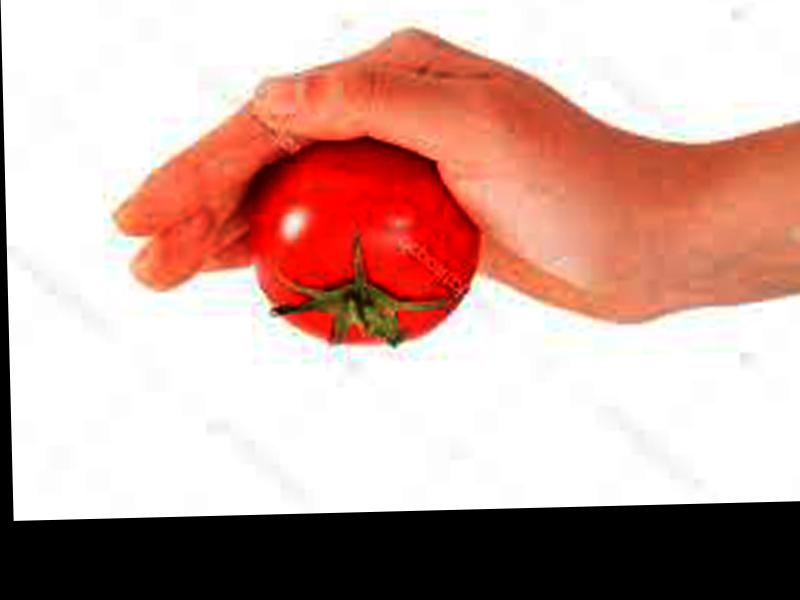Tomato: (254, 139, 484, 345)
